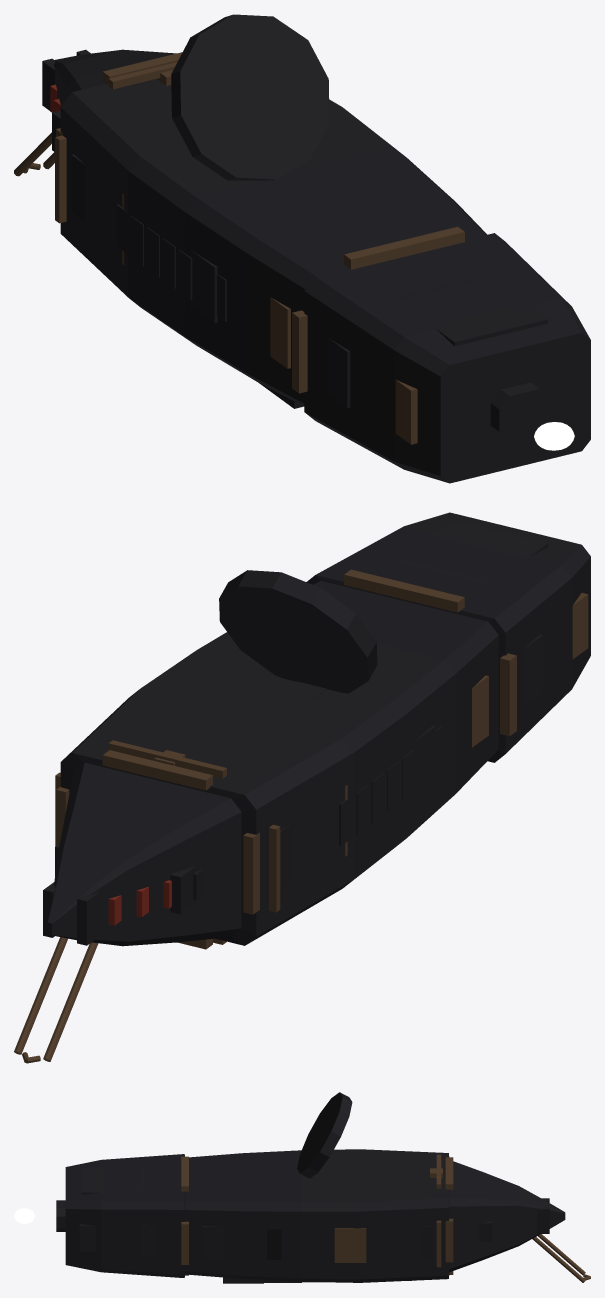
3 views of the same model, one above another, from view 1: azimuth 30°, elevation 25°; view 2: azimuth 150°, elevation 25°; view 3: azimuth 270°, elevation 25° (orthographic). The views are drawn at different scales.
Visible parts, largest first — view 1: RIMWARD_HULL, RIMWARD_ENGINE_GLOW; view 2: RIMWARD_HULL; view 3: RIMWARD_HULL, RIMWARD_ENGINE_GLOW.
Boxes of the visible parts, <box> form: RIMWARD_HULL: <box>14,14,590,483</box>; RIMWARD_ENGINE_GLOW: <box>534,422,574,450</box>; RIMWARD_HULL: <box>14,512,590,1063</box>; RIMWARD_HULL: <box>56,1092,590,1283</box>; RIMWARD_ENGINE_GLOW: <box>14,1208,34,1223</box>.
Bounding box in the file's own units: 1.86 × 2.57 × 7.65.
